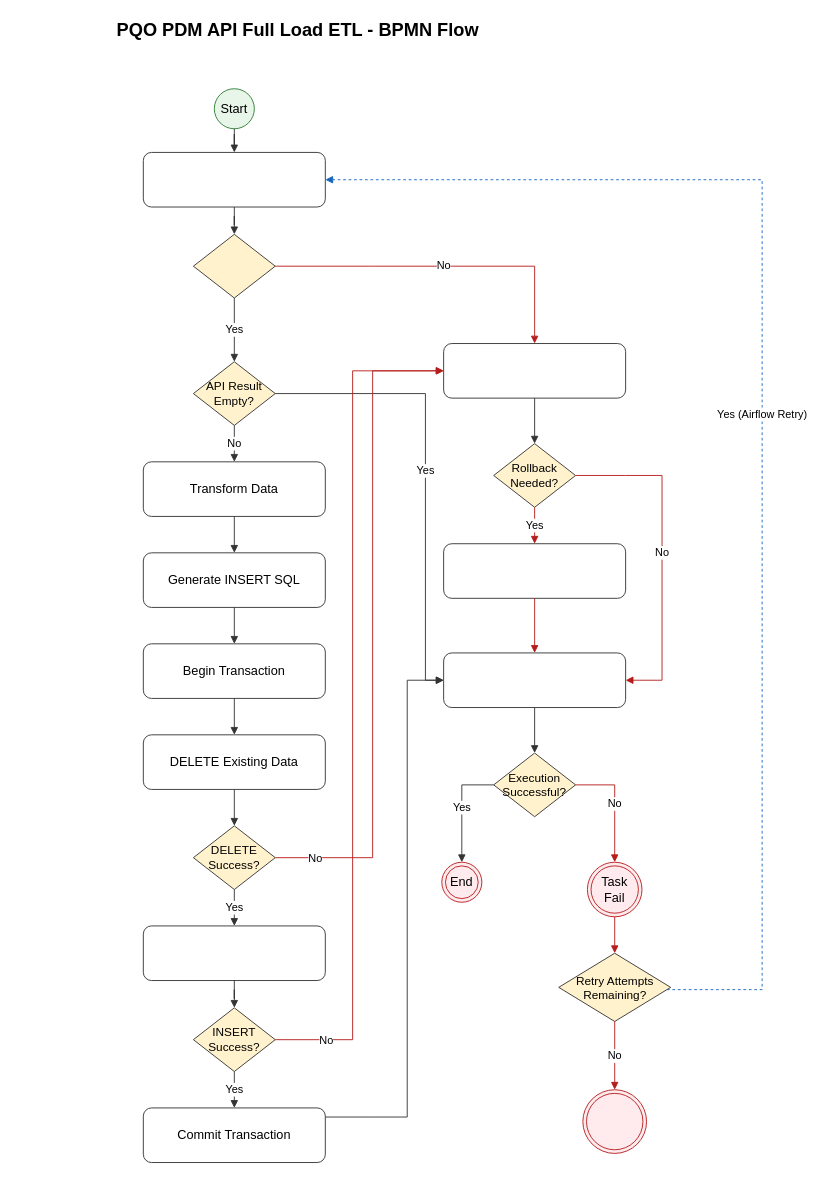
The diagram is 823 pixels wide and 1178 high, and some of its shapes have lost their labels. The centre of each missing label's shape, as x and y in pixels:
API Call Success?: point 233,265
Call PDM API: point 233,179
End Failed: point 614,1121
INSERT New Data: point 233,953
Rollback Transaction: point 534,570
Write Ctrl Log: point 534,370
Write Perf Log: point 534,680
